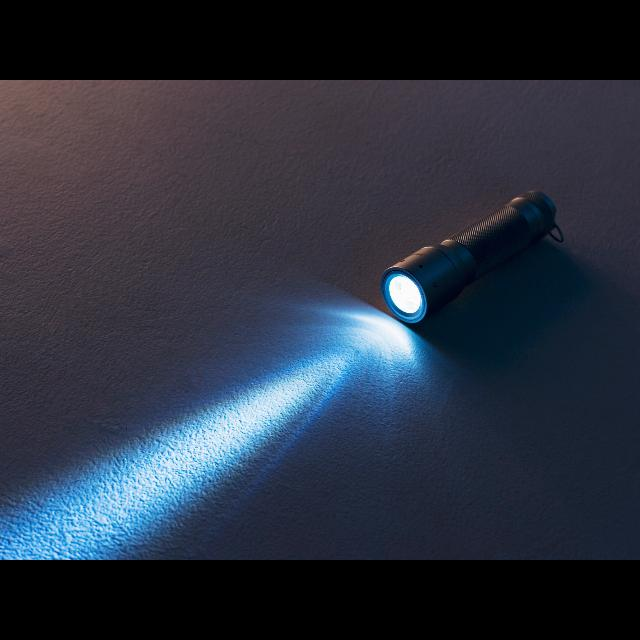Flashlight: (375, 186, 569, 334)
